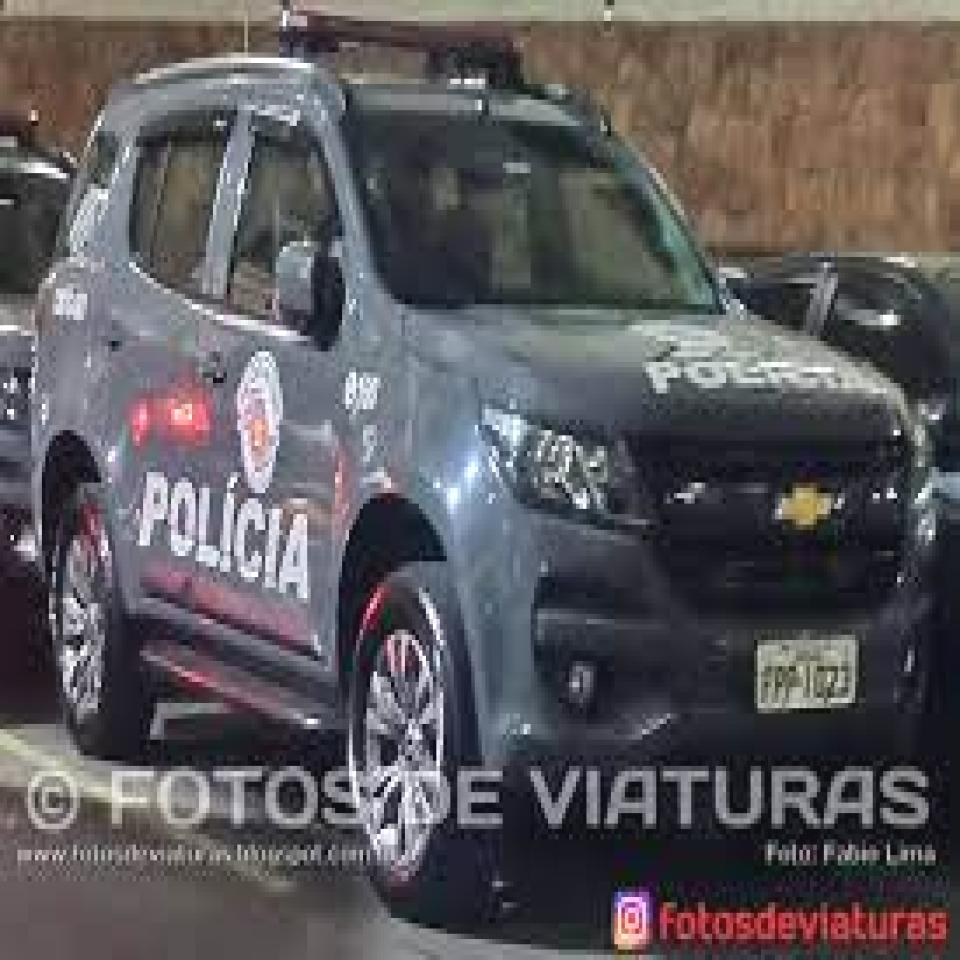viatura: (27, 0, 935, 926)
